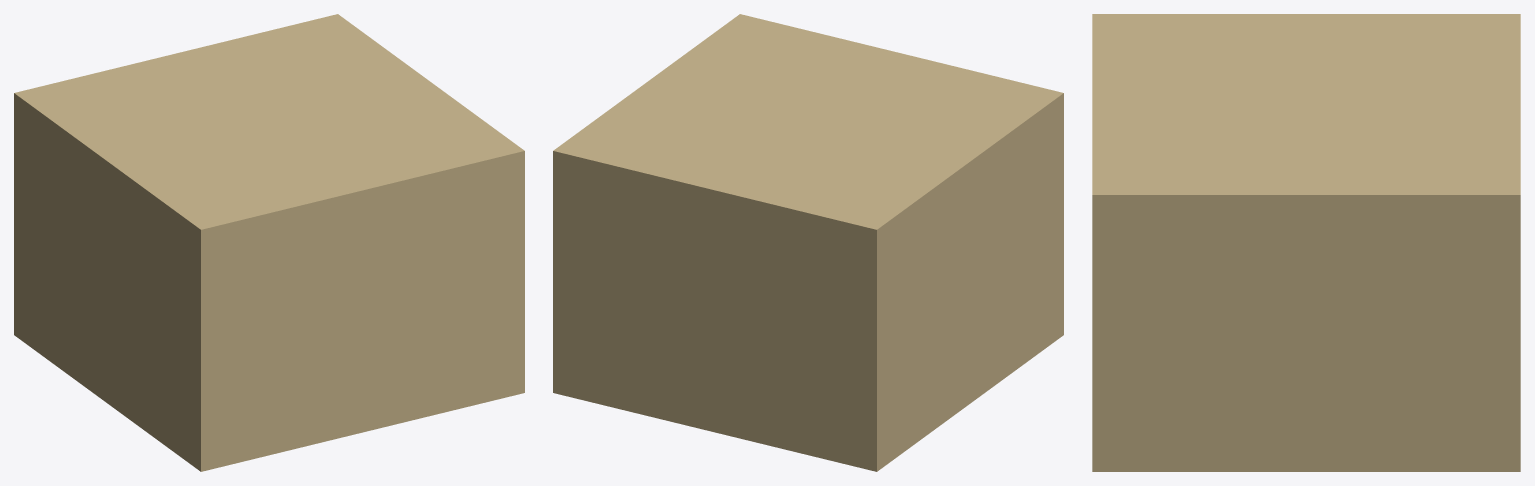
The model's file is arenisca_08.glb.
3 views of the same model, side by side, from view 1: azimuth 30°, elevation 25°; view 2: azimuth 150°, elevation 25°; view 3: azimuth 270°, elevation 25° (orthographic). The views are drawn at different scales.
Parts seen in each view (by area): view 1: arenisca_08; view 2: arenisca_08; view 3: arenisca_08.
Boxes of the visible parts, x1=… form: arenisca_08: x1=14, y1=14, x2=524, y2=471; arenisca_08: x1=553, y1=14, x2=1063, y2=471; arenisca_08: x1=1092, y1=14, x2=1520, y2=471.
Bounding box in the file's own units: 0.7 × 0.5 × 0.7.
